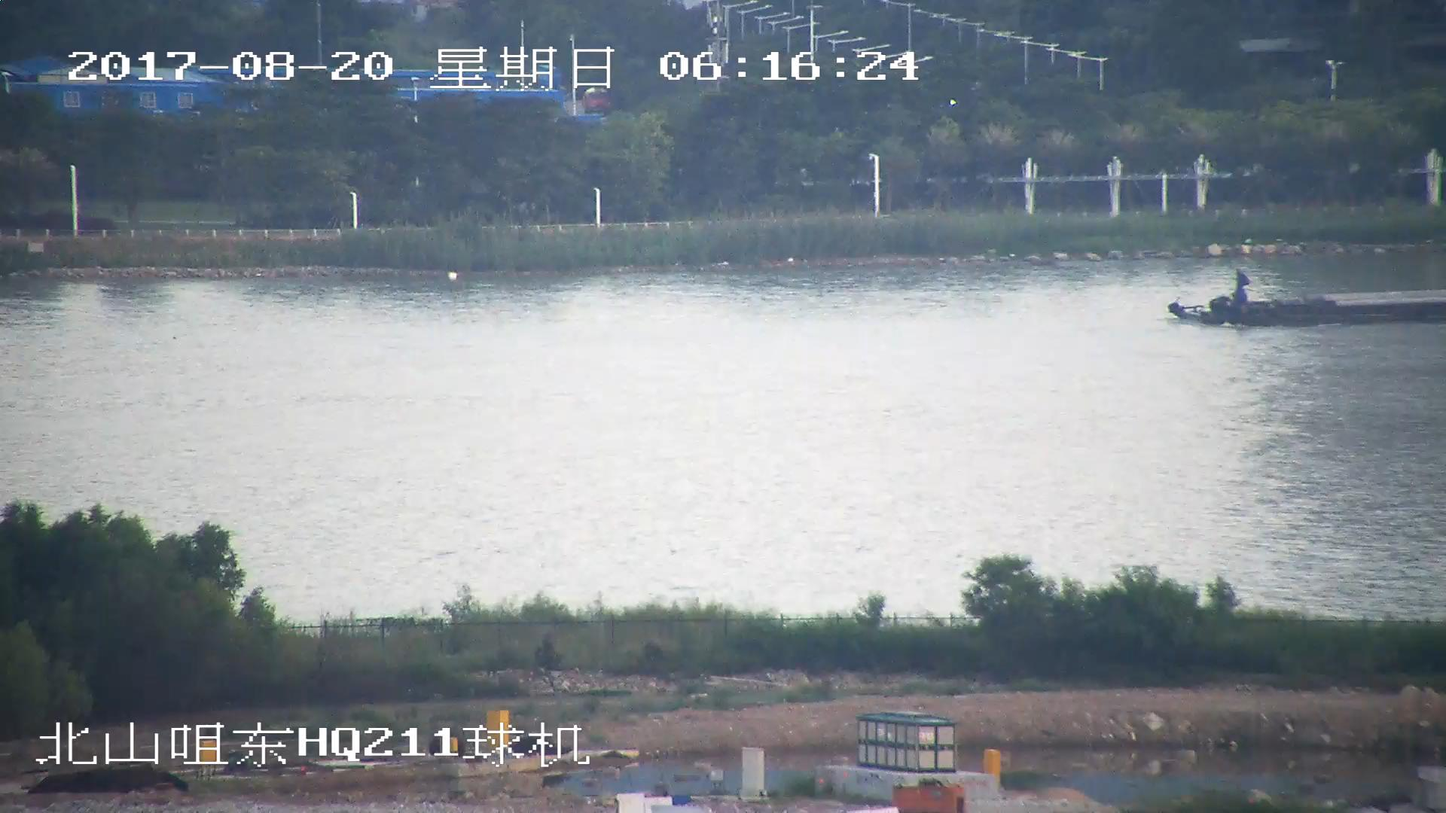bulk cargo carrier: (1170, 276, 1445, 323)
